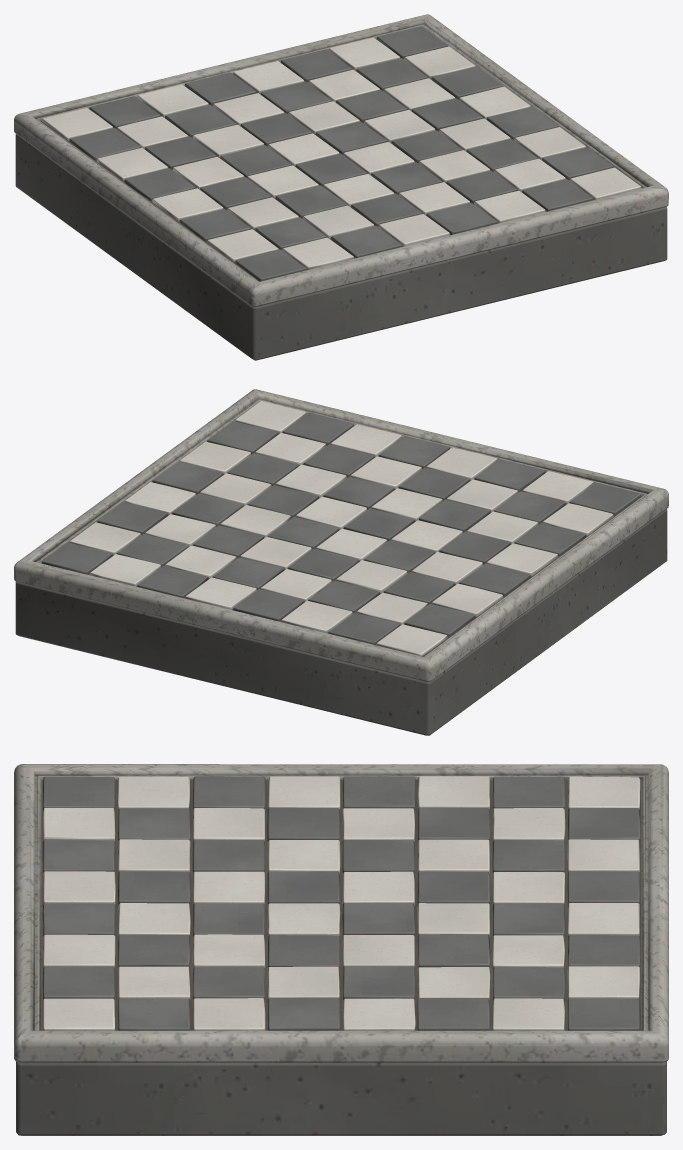
Rendered from beton_chessboard.glb.
The picture shows the model from 3 angles, top to bottom: view 1: azimuth 30°, elevation 25°; view 2: azimuth 150°, elevation 25°; view 3: azimuth 270°, elevation 25°; orthographic projection. The views are drawn at different scales.
Visible parts, largest first — view 1: Tiles_Dark, Tiles_Light, Base_Box, Lid_Rim; view 2: Tiles_Dark, Tiles_Light, Base_Box, Lid_Rim; view 3: Tiles_Dark, Tiles_Light, Lid_Rim, Base_Box.
Part boxes in pixels (bbox=[...]): Tiles_Dark: bbox=[69, 26, 613, 281]; Tiles_Light: bbox=[42, 37, 641, 269]; Base_Box: bbox=[15, 134, 667, 360]; Lid_Rim: bbox=[14, 14, 668, 306]; Tiles_Dark: bbox=[42, 412, 640, 644]; Tiles_Light: bbox=[69, 401, 613, 656]; Base_Box: bbox=[15, 509, 667, 735]; Lid_Rim: bbox=[14, 389, 668, 681]; Tiles_Dark: bbox=[42, 776, 640, 1030]; Tiles_Light: bbox=[42, 776, 640, 1030]; Lid_Rim: bbox=[14, 764, 668, 1062]; Base_Box: bbox=[16, 1061, 666, 1135].
Bounding box in the file's own units: 0.4024 × 0.068 × 0.4024.
5 materials, 5 textured.
